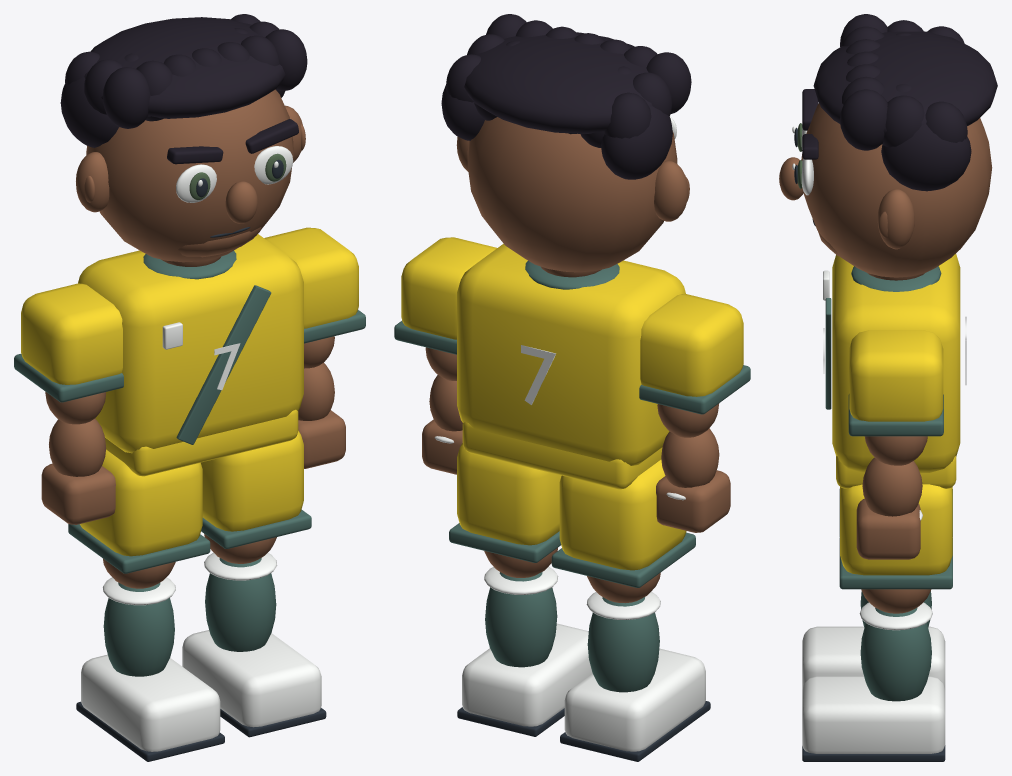
The model's file is Zara.fbx.
3 renders of one model, left to right at view 1: azimuth 30°, elevation 25°; view 2: azimuth 150°, elevation 25°; view 3: azimuth 270°, elevation 25°, orthographic.
Visible parts, largest first — view 1: Torso, Head, HairCap, Boot_Left, Boot_Right, Sleeve_Left, Shorts_Left, Shorts_Right, Sleeve_Right, Sock_Right, Sock_Left, Waist (+32 smaller); view 2: Torso, Head, HairCap, Shorts_Left, Sleeve_Left, Boot_Left, Shorts_Right, Boot_Right, Sleeve_Right, Sock_Right, Sock_Left, Waist (+26 smaller); view 3: Head, Torso, Boot_Right, HairCap, Sleeve_Right, Shorts_Right, Sock_Right, SidePuff.001, Boot_Left, Hand_Right, Forearm_Right, Curl.020 (+20 smaller).
Boxes of the visible parts, box(x1,y1,x2,y2) form: Torso: box(78, 234, 303, 453); Head: box(86, 89, 293, 262); HairCap: box(84, 17, 285, 118); Boot_Left: box(81, 654, 220, 751); Boot_Right: box(182, 630, 321, 727); Sleeve_Left: box(21, 283, 122, 384); Shorts_Left: box(80, 449, 202, 556); Shorts_Right: box(201, 430, 303, 531); Sleeve_Right: box(264, 227, 358, 328); Sock_Right: box(205, 558, 276, 651); Sock_Left: box(103, 582, 174, 676); Waist: box(105, 409, 298, 476); Torso: box(457, 243, 685, 465); Head: box(467, 117, 677, 272); HairCap: box(464, 32, 672, 133); Shorts_Left: box(559, 459, 686, 570); Sleeve_Left: box(640, 294, 743, 396); Boot_Left: box(564, 648, 705, 751); Shorts_Right: box(457, 443, 561, 545); Boot_Right: box(462, 623, 592, 726); Sleeve_Right: box(401, 237, 496, 339); Sock_Right: box(485, 572, 557, 667); Sock_Left: box(587, 597, 659, 692); Waist: box(462, 422, 662, 489); Head: box(801, 103, 992, 277); Torso: box(832, 254, 960, 472); Boot_Right: box(802, 676, 945, 753); HairCap: box(813, 31, 997, 133); Sleeve_Right: box(849, 330, 943, 421); Shorts_Right: box(840, 484, 952, 575); Sock_Right: box(860, 608, 931, 701); SidePuff.001: box(881, 124, 971, 191); Boot_Left: box(802, 626, 945, 689); Hand_Right: box(856, 498, 920, 559); Forearm_Right: box(862, 457, 922, 516); Curl.020: box(840, 89, 887, 150).
Bounding box in the file's own units: 93.71 × 195 × 57.97.
